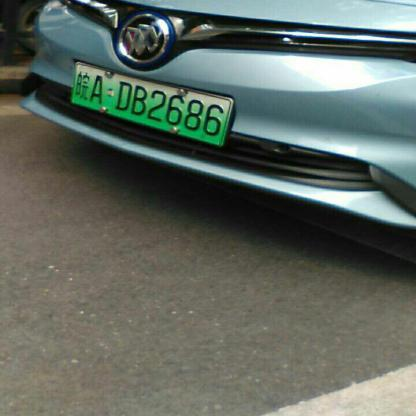lp: (71, 62, 231, 144)
